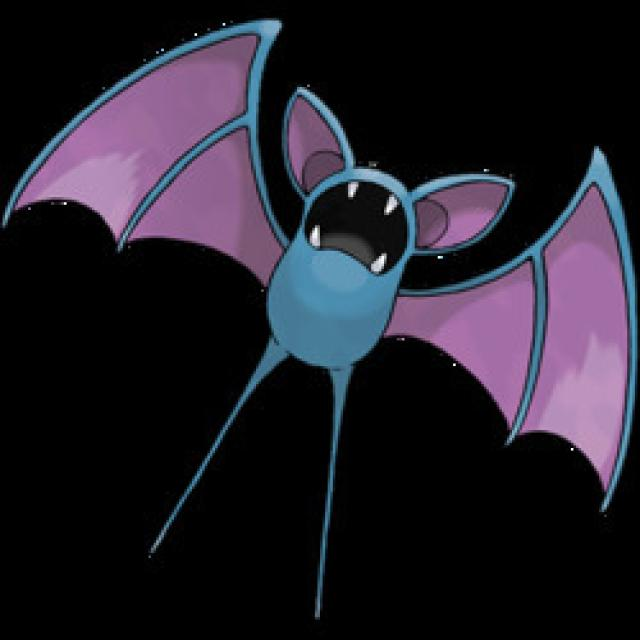Zubat: (157, 88, 541, 469)
